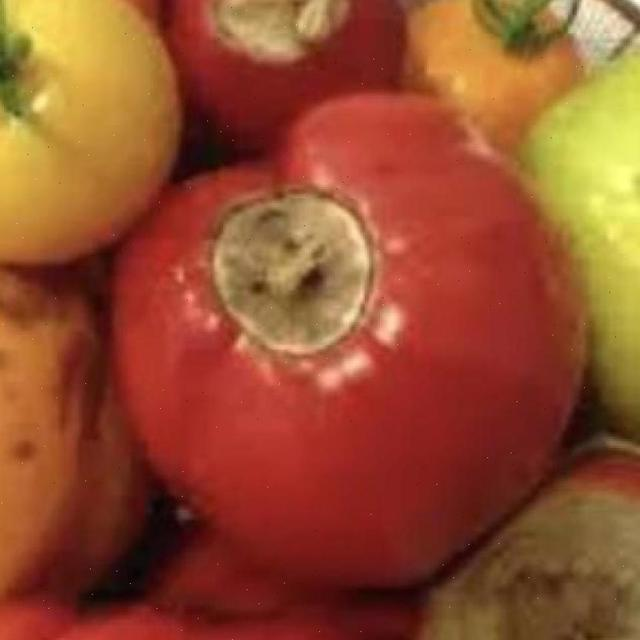Blossom End Rot Fruit: (116, 20, 360, 378)
